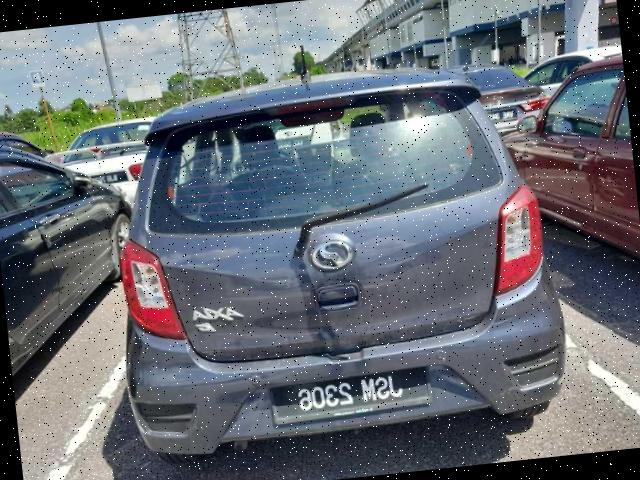License_Plate: (268, 366, 435, 427)
car: (97, 51, 576, 467)
